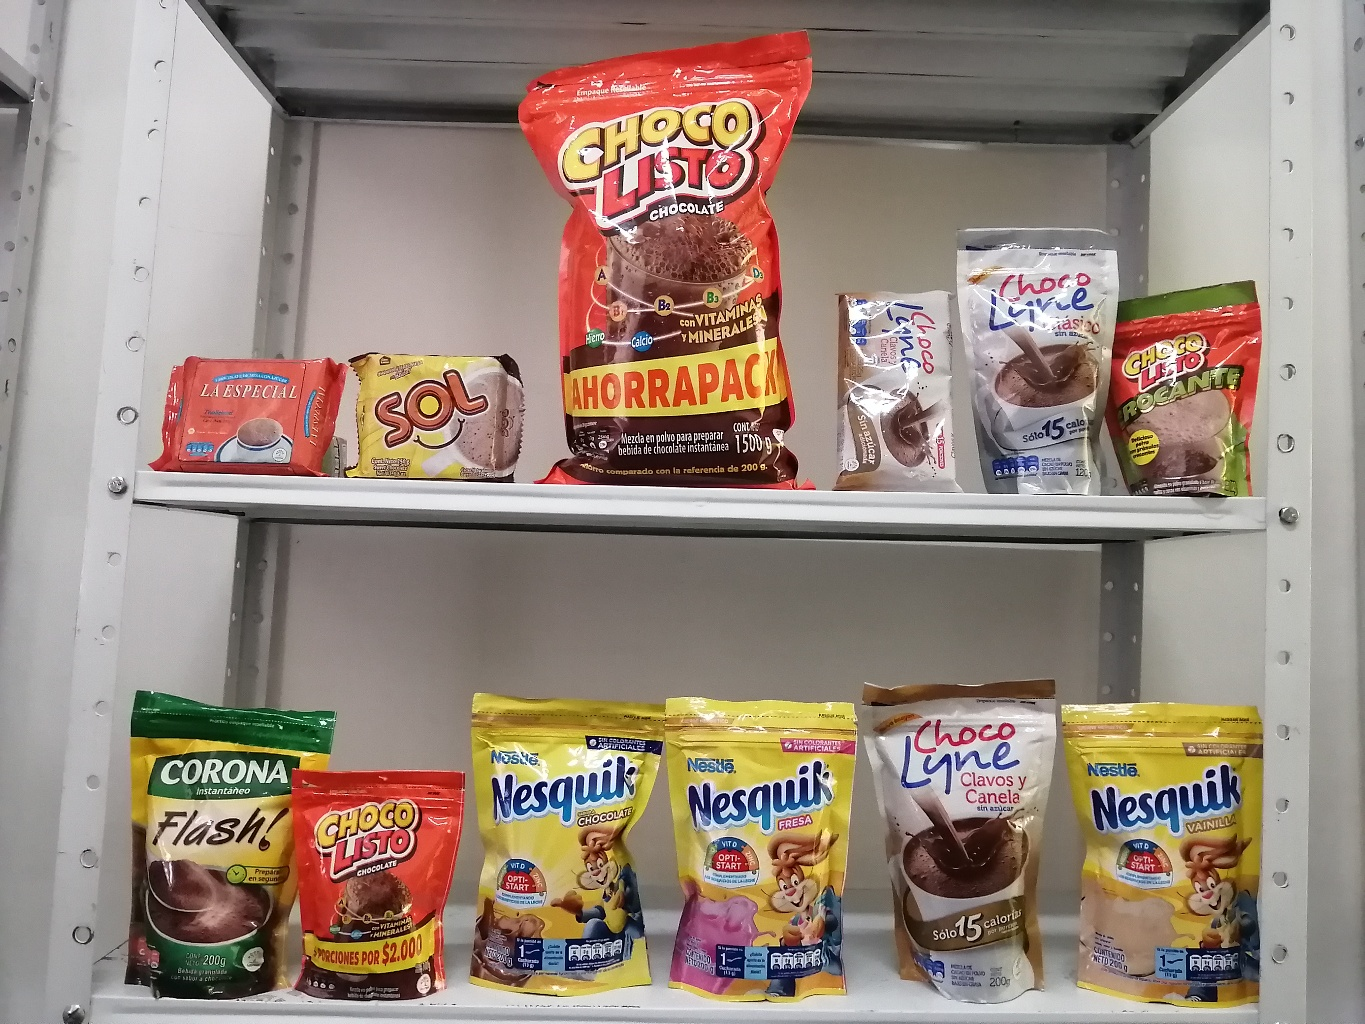COL0170102DYP10000: (1104, 264, 1272, 508)
COL0170103DYP1,500: (494, 9, 831, 490)
COL0170303DYP20000: (459, 669, 684, 1009)
COL0170305DYP20000: (650, 673, 869, 1014)
COL0170306DYP20000: (1040, 654, 1306, 1014)
